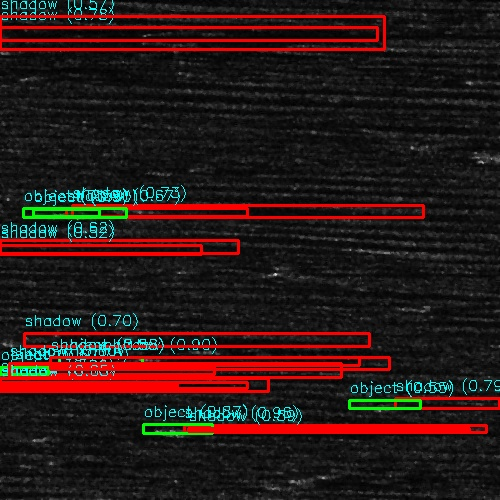rock: (204, 265, 339, 278), (45, 355, 150, 368), (24, 208, 129, 219), (116, 424, 231, 433), (332, 399, 395, 408), (0, 366, 58, 373), (289, 474, 330, 483), (0, 338, 48, 343), (115, 205, 146, 210), (213, 347, 254, 350), (0, 382, 10, 389)
shadow: (0, 35, 359, 50), (77, 208, 426, 219), (98, 355, 362, 368), (0, 488, 363, 495), (272, 265, 456, 278), (174, 424, 437, 433), (17, 366, 275, 373), (17, 338, 363, 343), (0, 382, 230, 389), (0, 380, 224, 387), (0, 248, 204, 255), (0, 378, 169, 383), (364, 399, 456, 408), (310, 474, 399, 483), (0, 383, 154, 388), (131, 205, 219, 210), (234, 347, 324, 350)
